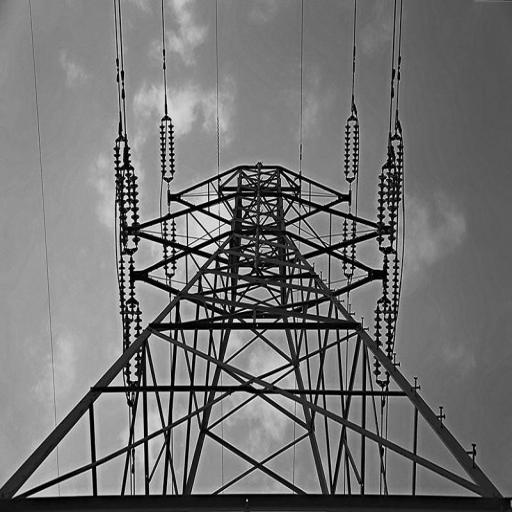ss_3: (1, 140, 510, 511)
